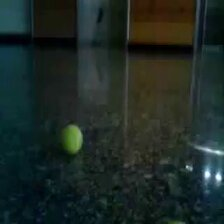tennis: (61, 123, 83, 155)
